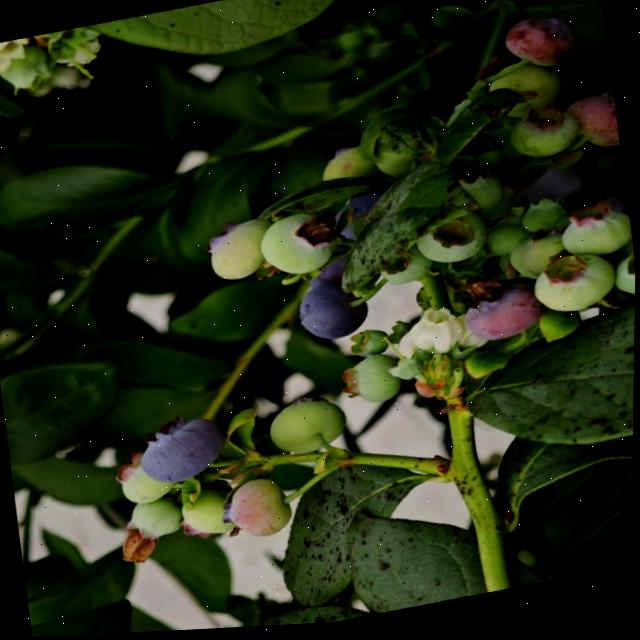RipeBlueBerry: (136, 412, 232, 490), (294, 281, 374, 348)
Semi-RipeBlueBerry: (500, 11, 581, 81), (467, 281, 544, 349), (567, 95, 622, 161)
UnripeBlueBerry: (530, 250, 620, 325), (258, 209, 342, 282), (270, 392, 349, 461), (220, 477, 297, 545)
